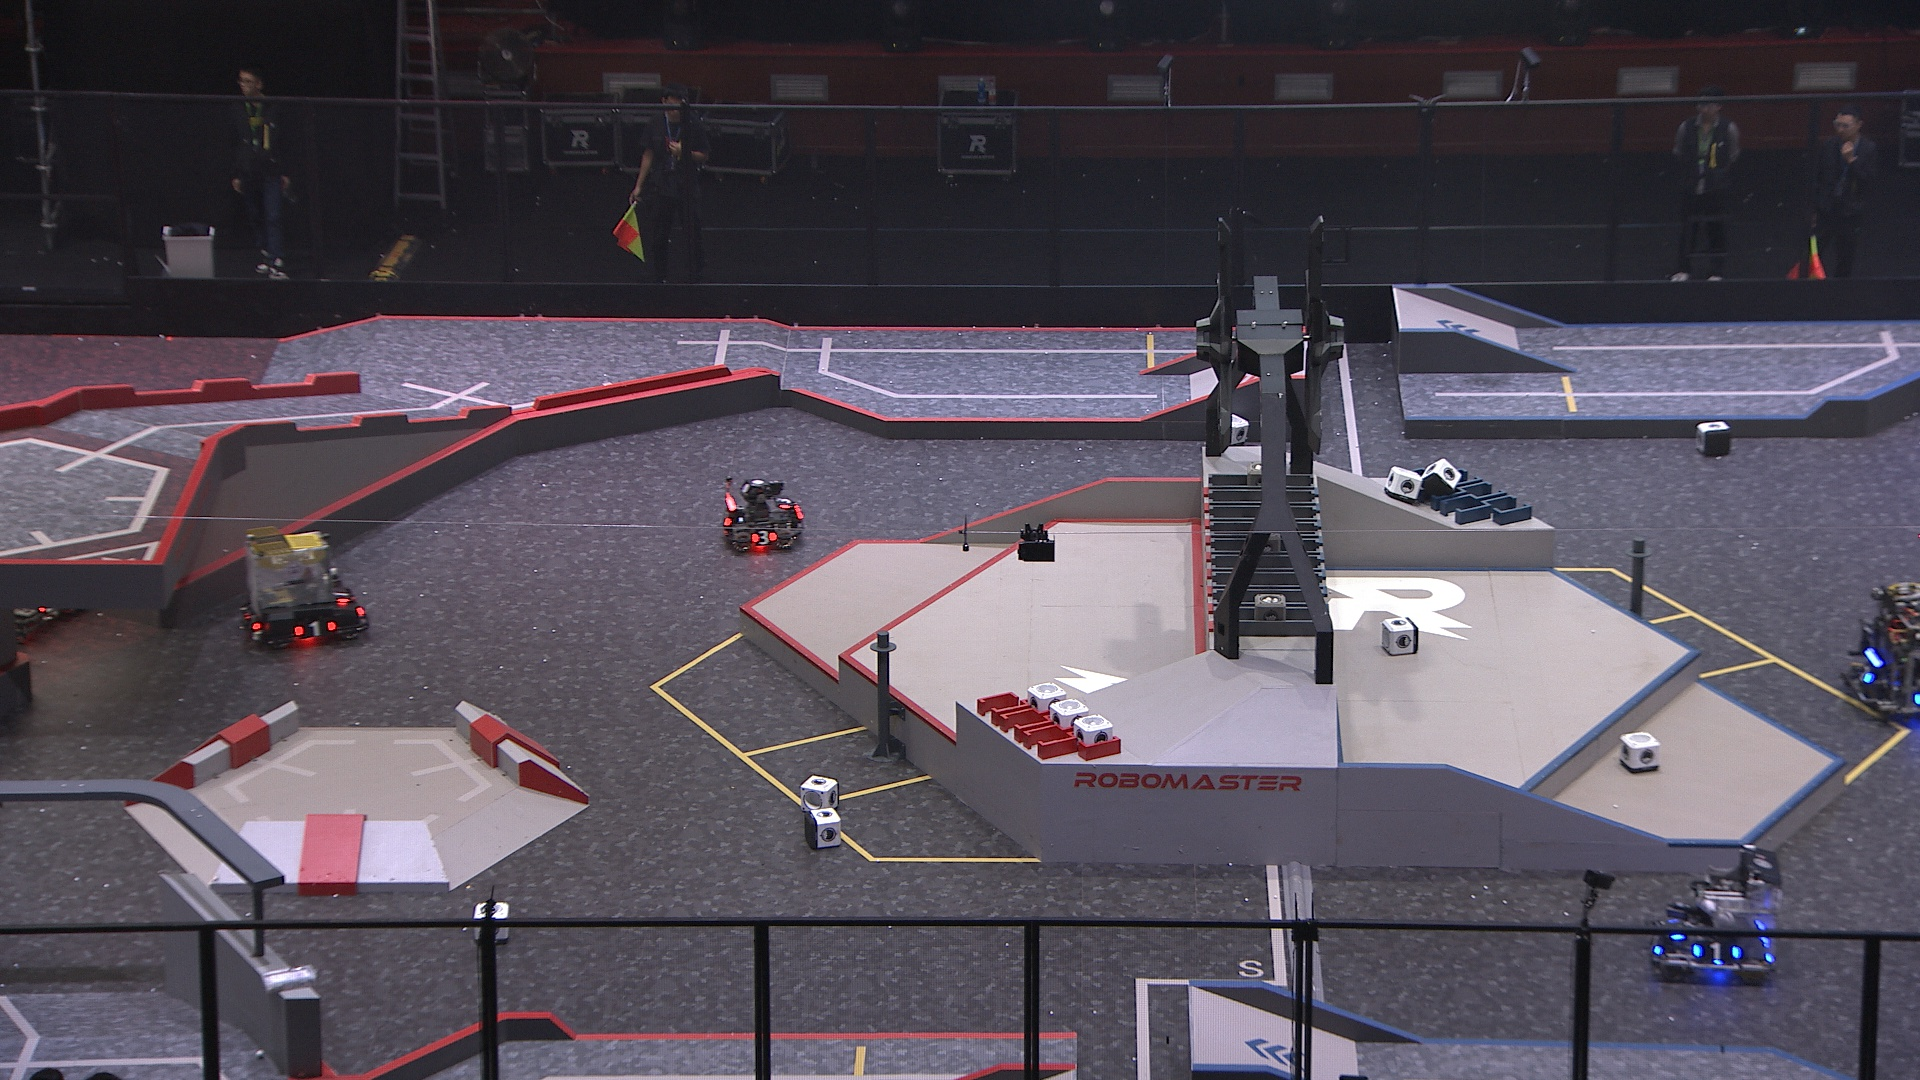armor: (1695, 942, 1737, 964), (291, 618, 335, 637), (240, 609, 261, 636), (1858, 662, 1879, 688), (334, 582, 353, 604), (752, 529, 778, 545), (775, 495, 793, 512)
car: (1647, 837, 1784, 978), (235, 524, 373, 651), (1845, 583, 1920, 719), (719, 477, 806, 559)
